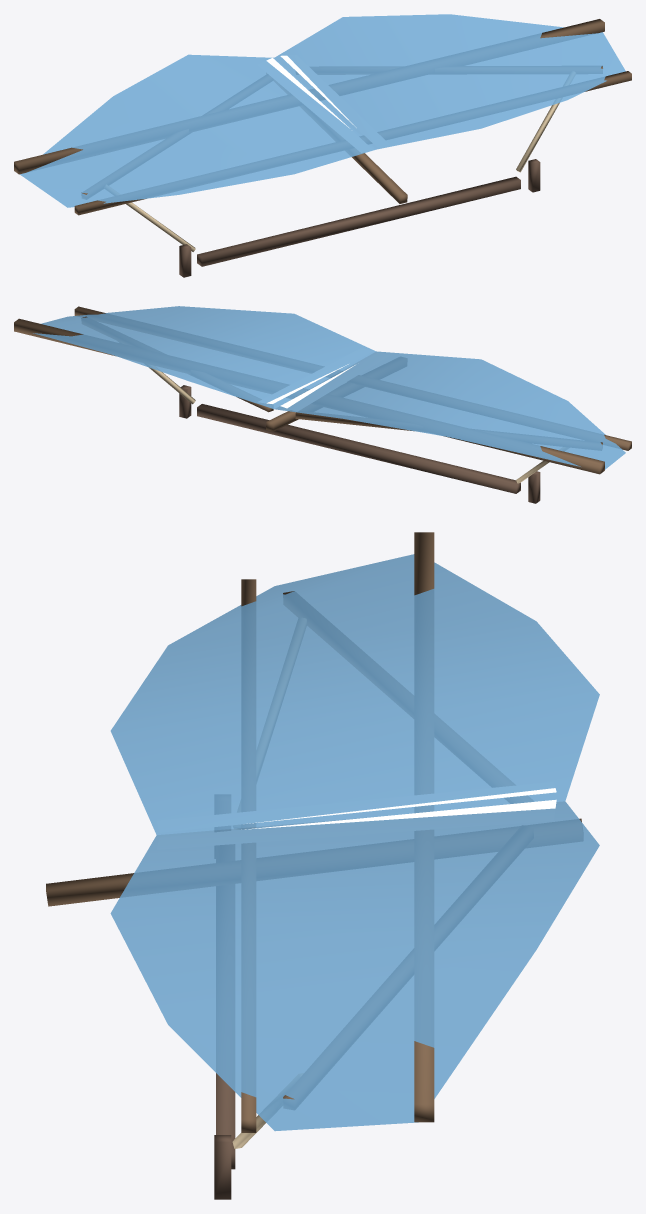
File: glider.gltf
3 renders of one model, top to bottom at view 1: azimuth 30°, elevation 25°; view 2: azimuth 150°, elevation 25°; view 3: azimuth 270°, elevation 25°, orthographic. The views are drawn at different scales.
Visible parts, largest first — view 1: Nau Glider Left Cloth Panel, Nau Glider Right Cloth Panel, Nau Glider Handle Bar, Nau Glider Leading Spar, Nau Glider Center Keel, Nau Glider Rear Spar, Nau Glider Right Tether, Nau Glider Left Center Seam, Nau Glider Left Tether, Nau Glider Right Grip, Nau Glider Left Grip; view 2: Nau Glider Left Cloth Panel, Nau Glider Right Cloth Panel, Nau Glider Handle Bar, Nau Glider Leading Spar, Nau Glider Left Rib, Nau Glider Rear Spar, Nau Glider Left Grip, Nau Glider Center Keel, Nau Glider Right Grip, Nau Glider Left Center Seam, Nau Glider Right Tether; view 3: Nau Glider Right Cloth Panel, Nau Glider Left Cloth Panel, Nau Glider Leading Spar, Nau Glider Center Keel, Nau Glider Right Center Seam, Nau Glider Handle Bar, Nau Glider Right Grip, Nau Glider Rear Spar, Nau Glider Left Center Seam.
Part boxes in pixels (x1,y1,x2,y2): Nau Glider Left Cloth Panel: (20, 54, 375, 207); Nau Glider Right Cloth Panel: (274, 14, 625, 149); Nau Glider Handle Bar: (197, 176, 520, 266); Nau Glider Leading Spar: (14, 19, 604, 174); Nau Glider Center Keel: (352, 153, 407, 203); Nau Glider Rear Spar: (74, 71, 631, 215); Nau Glider Right Tether: (516, 102, 559, 172); Nau Glider Left Center Seam: (266, 58, 351, 130); Nau Glider Left Tether: (126, 202, 195, 251); Nau Glider Right Grip: (528, 159, 540, 192); Nau Glider Left Grip: (179, 244, 191, 277); Nau Glider Left Cloth Panel: (274, 351, 625, 469); Nau Glider Right Cloth Panel: (33, 306, 375, 408); Nau Glider Handle Bar: (197, 404, 520, 493); Nau Glider Leading Spar: (14, 318, 604, 474); Nau Glider Left Rib: (295, 412, 602, 445); Nau Glider Rear Spar: (74, 306, 631, 450); Nau Glider Left Grip: (528, 471, 540, 503); Nau Glider Center Keel: (266, 411, 298, 431); Nau Glider Right Grip: (179, 385, 191, 418); Nau Glider Left Center Seam: (280, 363, 358, 408); Nau Glider Right Tether: (149, 367, 195, 404); Nau Glider Right Cloth Panel: (110, 801, 599, 1131); Nau Glider Left Cloth Panel: (110, 554, 599, 834); Nau Glider Leading Spar: (414, 532, 434, 1122); Nau Glider Center Keel: (46, 818, 581, 906); Nau Glider Right Center Seam: (241, 799, 556, 829); Nau Glider Handle Bar: (216, 1073, 235, 1169); Nau Glider Right Grip: (214, 1135, 231, 1199); Nau Glider Rear Spar: (241, 579, 256, 1132); Nau Glider Left Center Seam: (246, 788, 556, 823).
Size of the model in its own units: 4.7 by 0.98 by 1.92.
